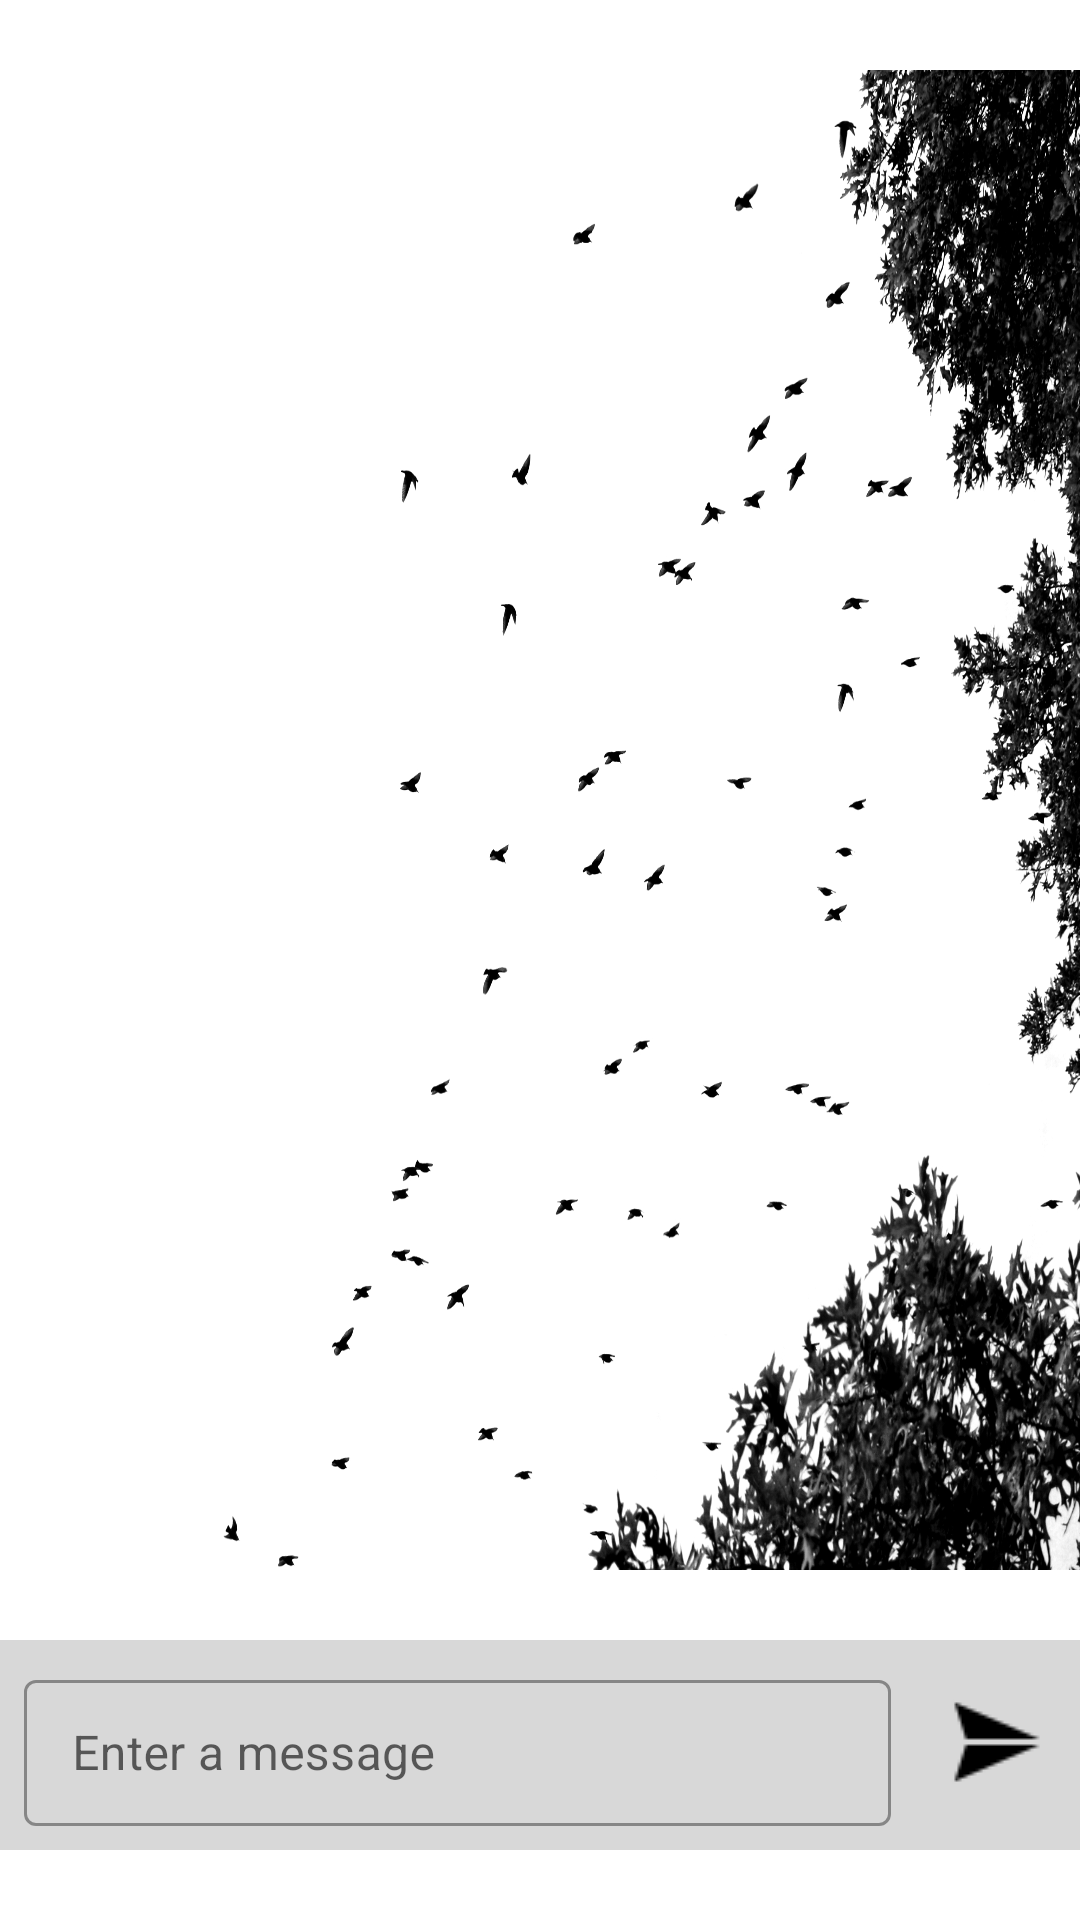

Icon bounding boxes for this 1080 x 1920 phone screenshot, format [x1, y1, x2, y2]:
sendmessage: [954, 1702, 1039, 1782]
